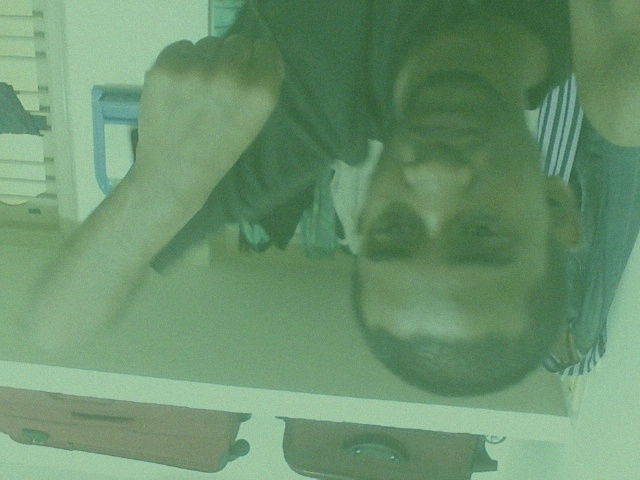hand: (131, 31, 288, 181)
